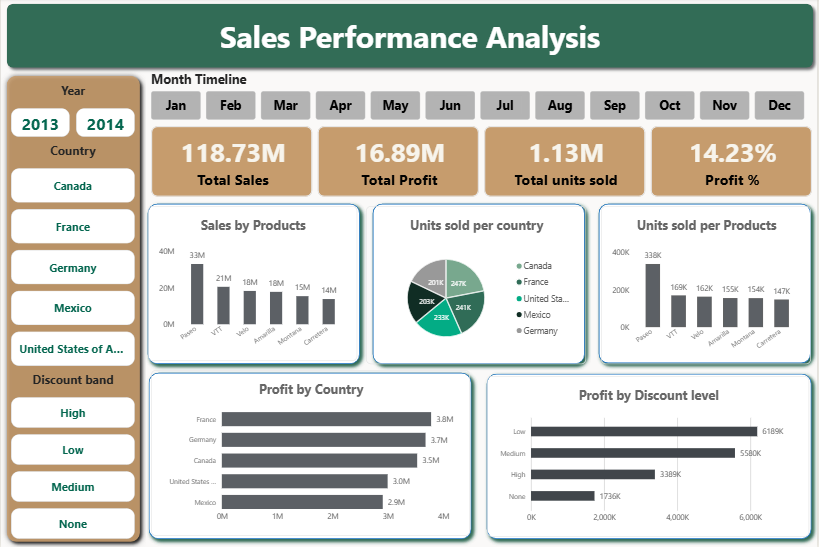

What the dashboard file says about the page in this screenshot:
{"tool":"powerbi","page":{"name":"Page 1","canvas":[1280,862],"ordinal":0},"visuals":[{"type":"shape","box":[0,0,1281.7,118.3],"z":0},{"type":"cardVisual","fields":{"Data":["cleaned_data.total_sales","cleaned_data.total_profit","cleaned_data.total_units_sold","cleaned_data.profit_margin_%"]},"box":[235.6,200,1036.7,111.1],"z":1000},{"type":"shape","box":[925.6,311.1,353.3,271.1],"z":2000},{"type":"shape","box":[221.7,576.7,526.7,281.7],"z":3000},{"type":"shape","box":[218.9,311.1,353.3,272.2],"z":4000},{"type":"shape","box":[572.2,311.1,353.3,272.2],"z":5000},{"type":"clusteredColumnChart","title":"Sales by Products","fields":{"Category":["cleaned_data.product"],"Y":["Sum(cleaned_data.Total_price)"]},"box":[231.1,325.6,327.8,243.3],"z":6000},{"type":"clusteredColumnChart","title":"Units sold per Products","fields":{"Category":["cleaned_data.product"],"Y":["Sum(cleaned_data.units_sold)"]},"box":[940,325.6,328.9,247.8],"z":7000},{"type":"pieChart","title":"Units sold per country","fields":{"Category":["cleaned_data.country"],"Y":["Sum(cleaned_data.units_sold)"]},"box":[572.1,326,344.8,247.6],"z":8000},{"type":"clusteredBarChart","title":"Profit by Country","fields":{"Category":["cleaned_data.country"],"Y":["Sum(cleaned_data.profit)"]},"box":[235.1,583,500,260.2],"z":9000},{"type":"shape","box":[750,578.3,530,280],"z":10000},{"type":"clusteredBarChart","title":"Profit by Discount level","fields":{"Category":["cleaned_data.discount_band"],"Y":["Sum(cleaned_data.profit)"]},"box":[761.7,591.7,505,251.7],"z":11000},{"type":"shape","box":[0,113.3,226.7,748.3],"z":12000},{"type":"advancedSlicerVisual","title":"Year","fields":{"Values":["cleaned_data.year"]},"box":[15.6,131.1,195,86.7],"z":13000},{"type":"advancedSlicerVisual","title":"Country","fields":{"Values":["cleaned_data.country"]},"box":[15.6,225.6,194.4,352.2],"z":14000},{"type":"advancedSlicerVisual","title":"Discount band","fields":{"Values":["cleaned_data.discount_band"]},"box":[15.6,584.4,194.4,265.6],"z":15000},{"type":"advancedSlicerVisual","title":"Month Timeline","fields":{"Values":["cleaned_data.month_name"]},"box":[235,113.3,1031.7,78.3],"z":15002}]}

Visuals, with their boxes in screenshot pixels (x1, y1, x2, y2), scaled from the page's 1280x862 canvas onto the 819x547 screenshot:
shape: crop(0, 0, 818, 75)
cardVisual - cleaned_data.total_sales x cleaned_data.total_profit: crop(151, 127, 814, 197)
shape: crop(592, 197, 818, 369)
shape: crop(142, 366, 479, 545)
shape: crop(140, 197, 366, 370)
shape: crop(366, 197, 592, 370)
"Sales by Products" clusteredColumnChart: crop(148, 207, 358, 361)
"Units sold per Products" clusteredColumnChart: crop(601, 207, 812, 364)
"Units sold per country" pieChart: crop(366, 207, 587, 364)
"Profit by Country" clusteredBarChart: crop(150, 370, 470, 535)
shape: crop(480, 367, 818, 545)
"Profit by Discount level" clusteredBarChart: crop(487, 375, 810, 535)
shape: crop(0, 72, 145, 546)
"Year" advancedSlicerVisual: crop(10, 83, 135, 138)
"Country" advancedSlicerVisual: crop(10, 143, 134, 367)
"Discount band" advancedSlicerVisual: crop(10, 371, 134, 539)
"Month Timeline" advancedSlicerVisual: crop(150, 72, 810, 122)
